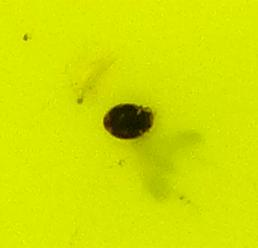Coleoptera: (100, 100, 158, 148)
